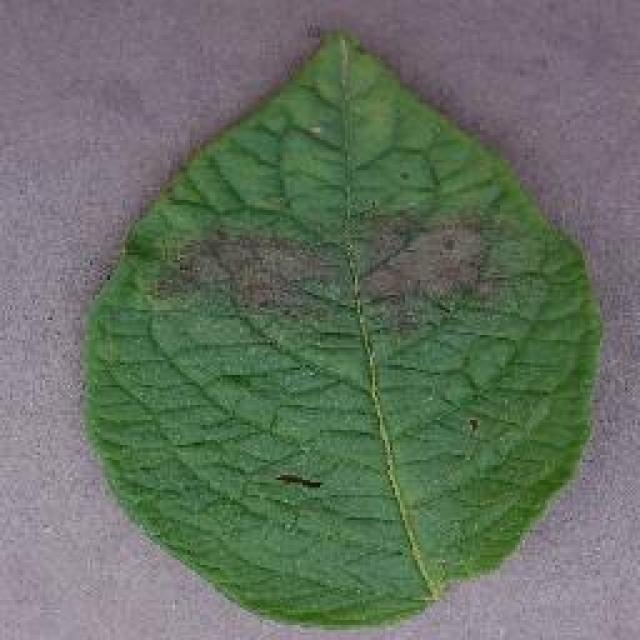late_blight: (77, 25, 605, 633)
